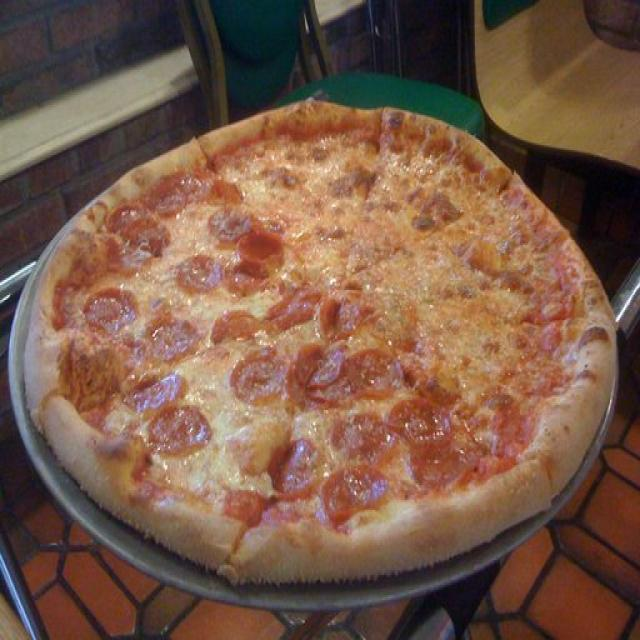Pepperoni: (386, 388, 452, 449), (232, 345, 291, 411), (264, 272, 328, 332), (146, 406, 215, 457), (342, 344, 407, 396), (291, 332, 346, 390), (324, 464, 374, 524), (268, 436, 317, 494), (234, 214, 290, 264), (326, 410, 383, 457), (88, 282, 138, 334), (308, 357, 360, 405), (98, 232, 154, 276), (148, 311, 198, 360), (206, 303, 258, 349), (180, 248, 230, 294), (151, 170, 198, 217), (132, 374, 186, 414), (314, 292, 368, 328), (223, 247, 267, 289), (119, 221, 169, 249), (112, 199, 153, 233), (215, 209, 250, 246)
Pizza: (26, 102, 616, 583)
